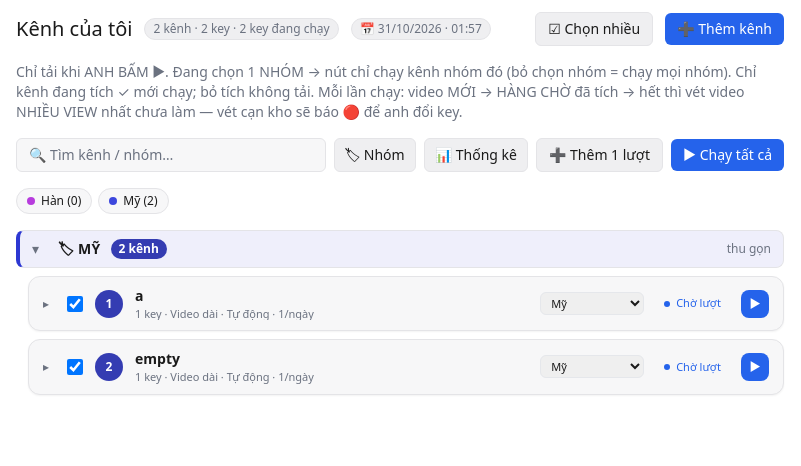
Scenario: Nút ➕ Thêm 1 lượt (trang Theo dõi) › kênh hết video chưa làm (trả 0) được đếm riêng, không báo là đã thêm
The image size is (801, 466).
Click the button titled "TẢI THÊM 1 VIDEO cho MỖI kênh".
click(599, 155)  # box [536, 138, 663, 172]
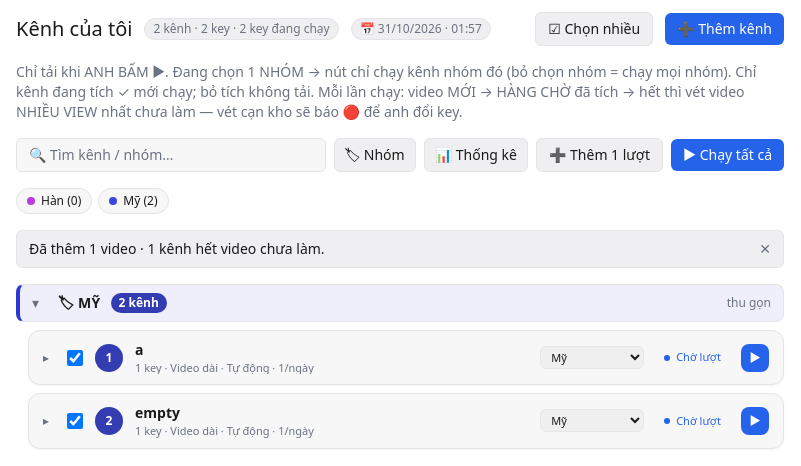
expect the text "Đã thêm 1 video · 1 kênh hết video chưa làm." is shown: met, box [29, 239, 325, 258]
